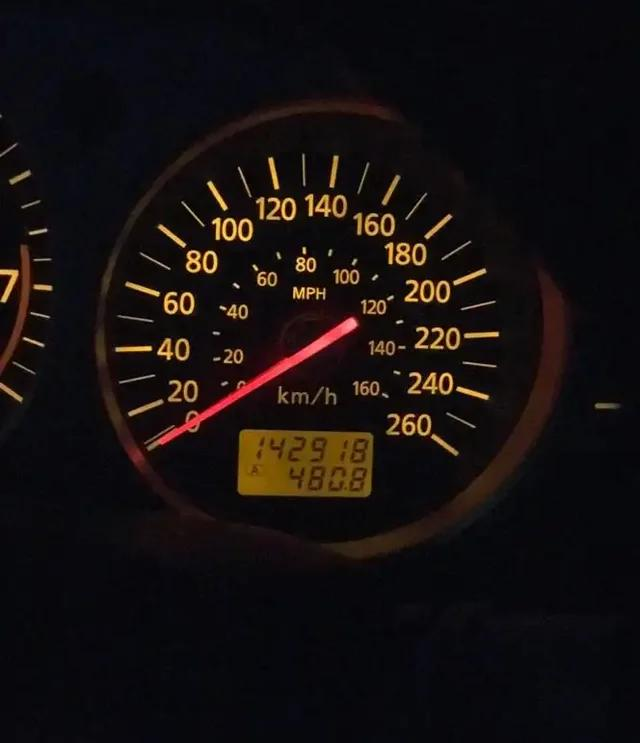-: (344, 487, 348, 491)
0: (328, 466, 345, 491)
1: (337, 438, 349, 464), (254, 435, 265, 460)
2: (287, 436, 306, 462)
4: (288, 466, 306, 491), (269, 437, 286, 461)
8: (350, 438, 369, 464), (307, 466, 326, 491), (349, 467, 368, 492)
9: (309, 436, 328, 463)
X: (249, 464, 259, 476)
odometer: (238, 429, 374, 498)
